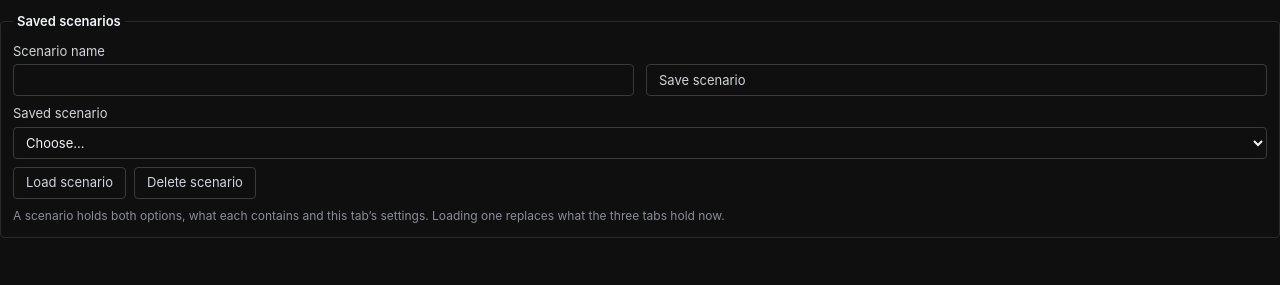
it: PlannerScenarios › deletes only after the name is confirmed, and says why a load failed
Select "Haifa" in the dropdown labelled "Saved scenario": [640, 143] box [13, 127, 1267, 159]
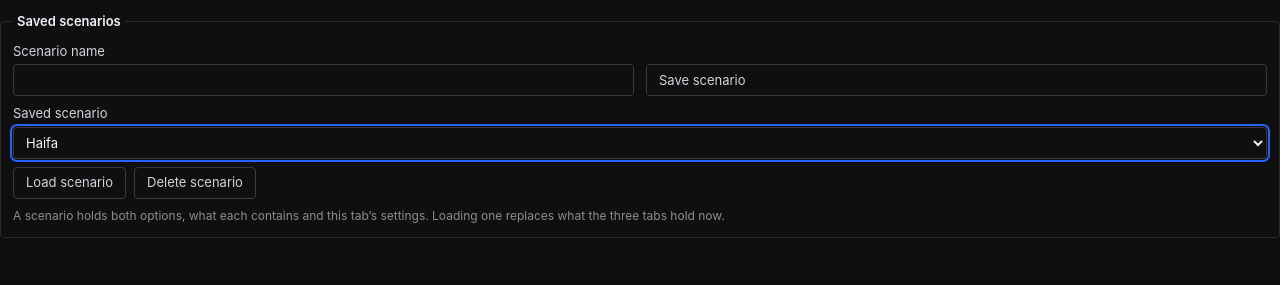
Click the button "Load scenario": [70, 183] box [13, 167, 126, 199]
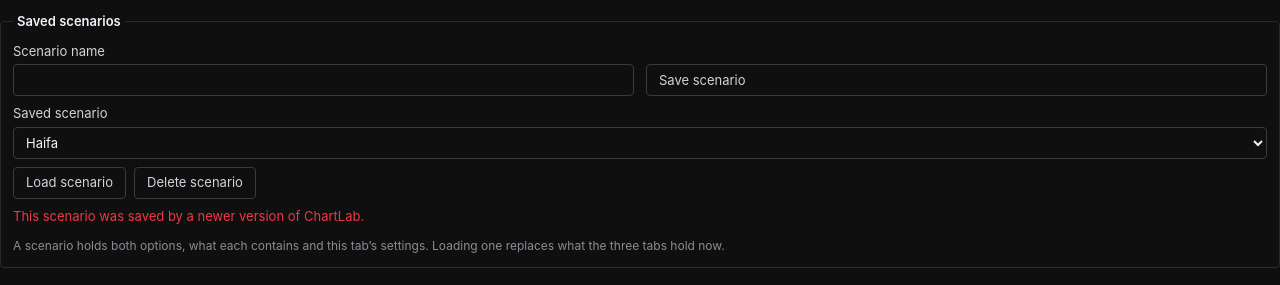
Now the message shows "newer version", box [13, 208, 364, 224]
Click the button "Delete scenario": [195, 183] box [134, 167, 256, 199]
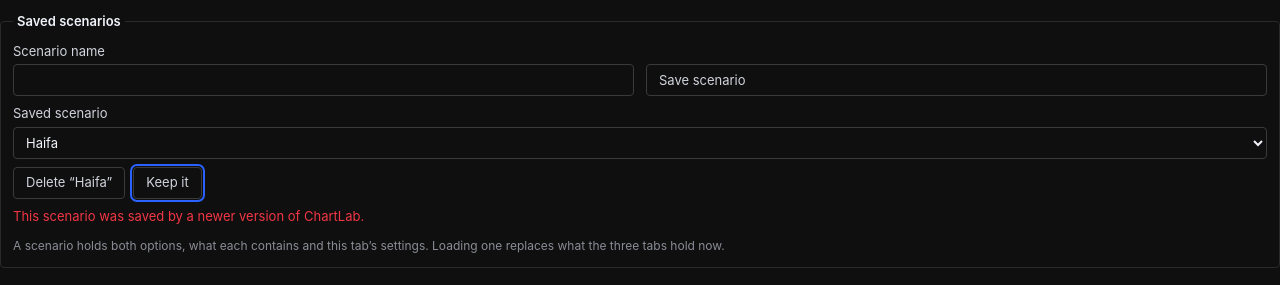
Now the button "Delete “Haifa”" is shown, box [13, 167, 125, 199]
Click the button "Keep it": [168, 183] box [133, 167, 202, 199]
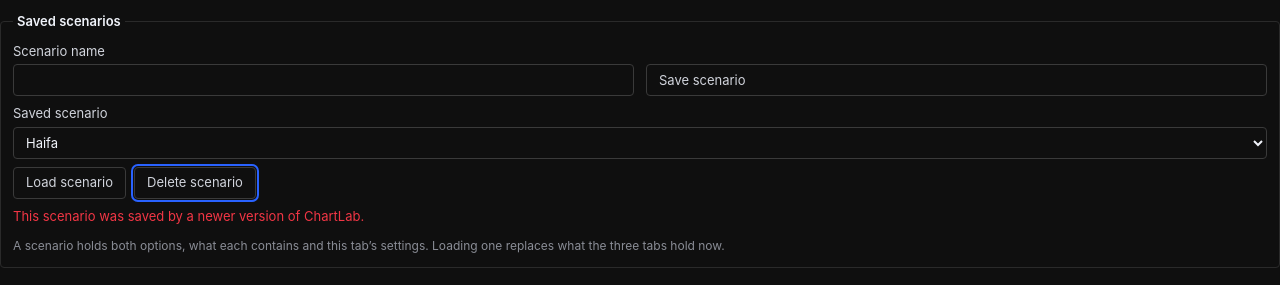
Now the button "Delete “Haifa”" is gone
Click the button "Delete scenario": [195, 183] box [134, 167, 256, 199]
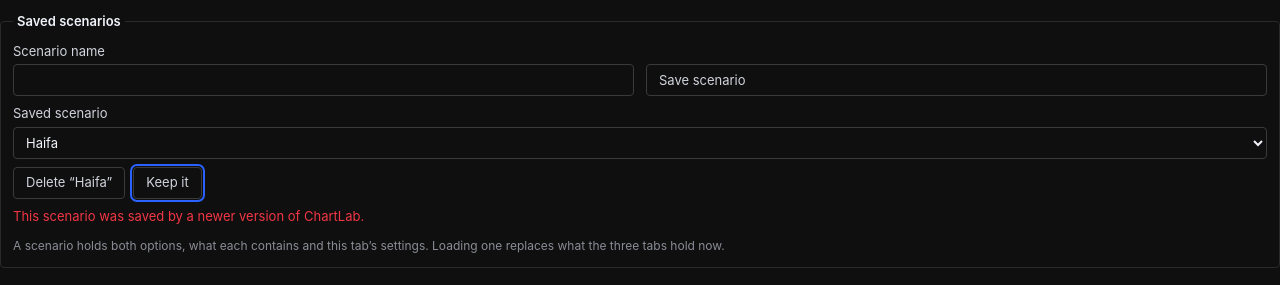
Click the button "Delete “Haifa”": [69, 183] box [13, 167, 125, 199]
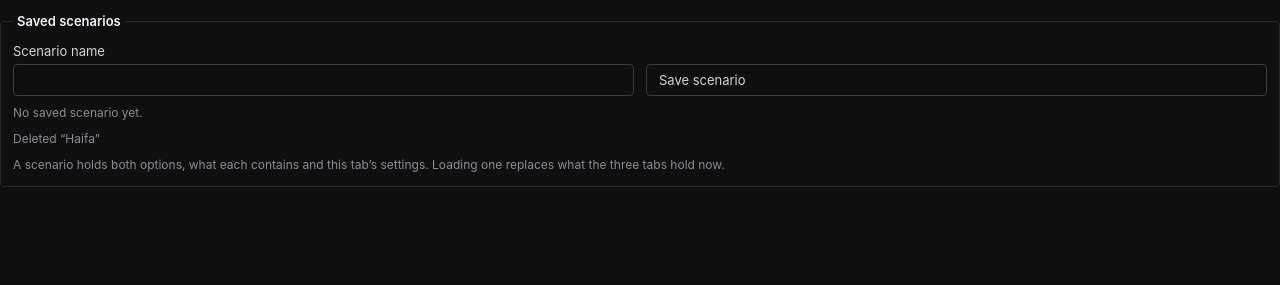
Now the text "No saved scenario yet." is shown, box [13, 105, 143, 120]
